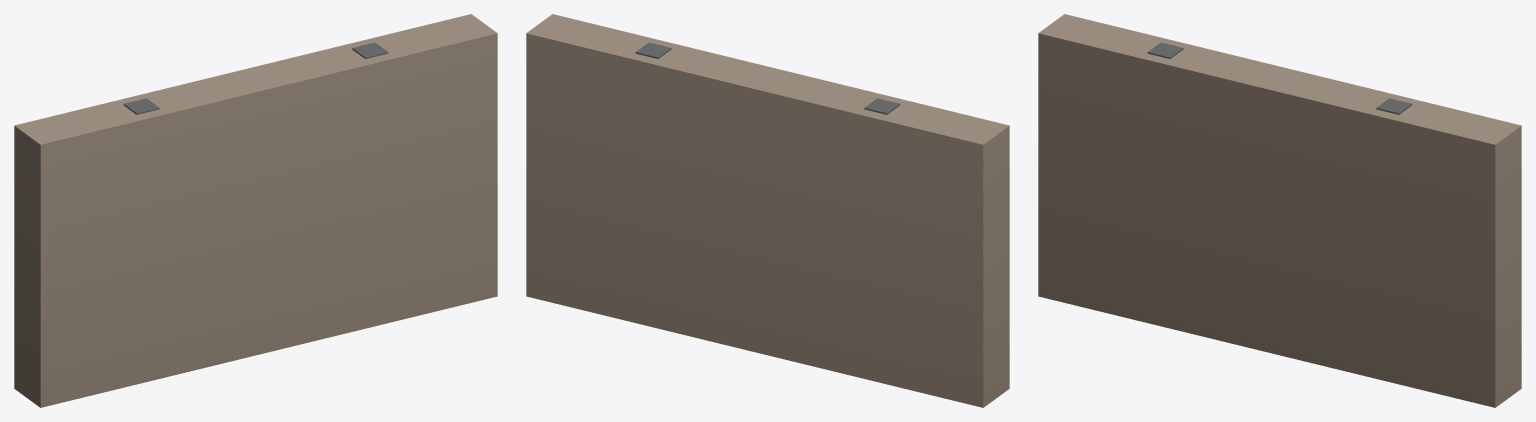
Rendered from halfWall_regocrete.glb.
The picture shows the model from 3 angles, left to right: view 1: azimuth 30°, elevation 25°; view 2: azimuth 150°, elevation 25°; view 3: azimuth 330°, elevation 25°; orthographic projection.
Parts seen in each view (by area): view 1: halfWall_regocrete; view 2: halfWall_regocrete; view 3: halfWall_regocrete.
Boxes of the visible parts, bbox=[...] form: halfWall_regocrete: bbox=[14, 14, 497, 407]; halfWall_regocrete: bbox=[526, 14, 1009, 407]; halfWall_regocrete: bbox=[1038, 14, 1521, 407].
Size of the model in its own units: 2 by 1.11 by 0.2.
